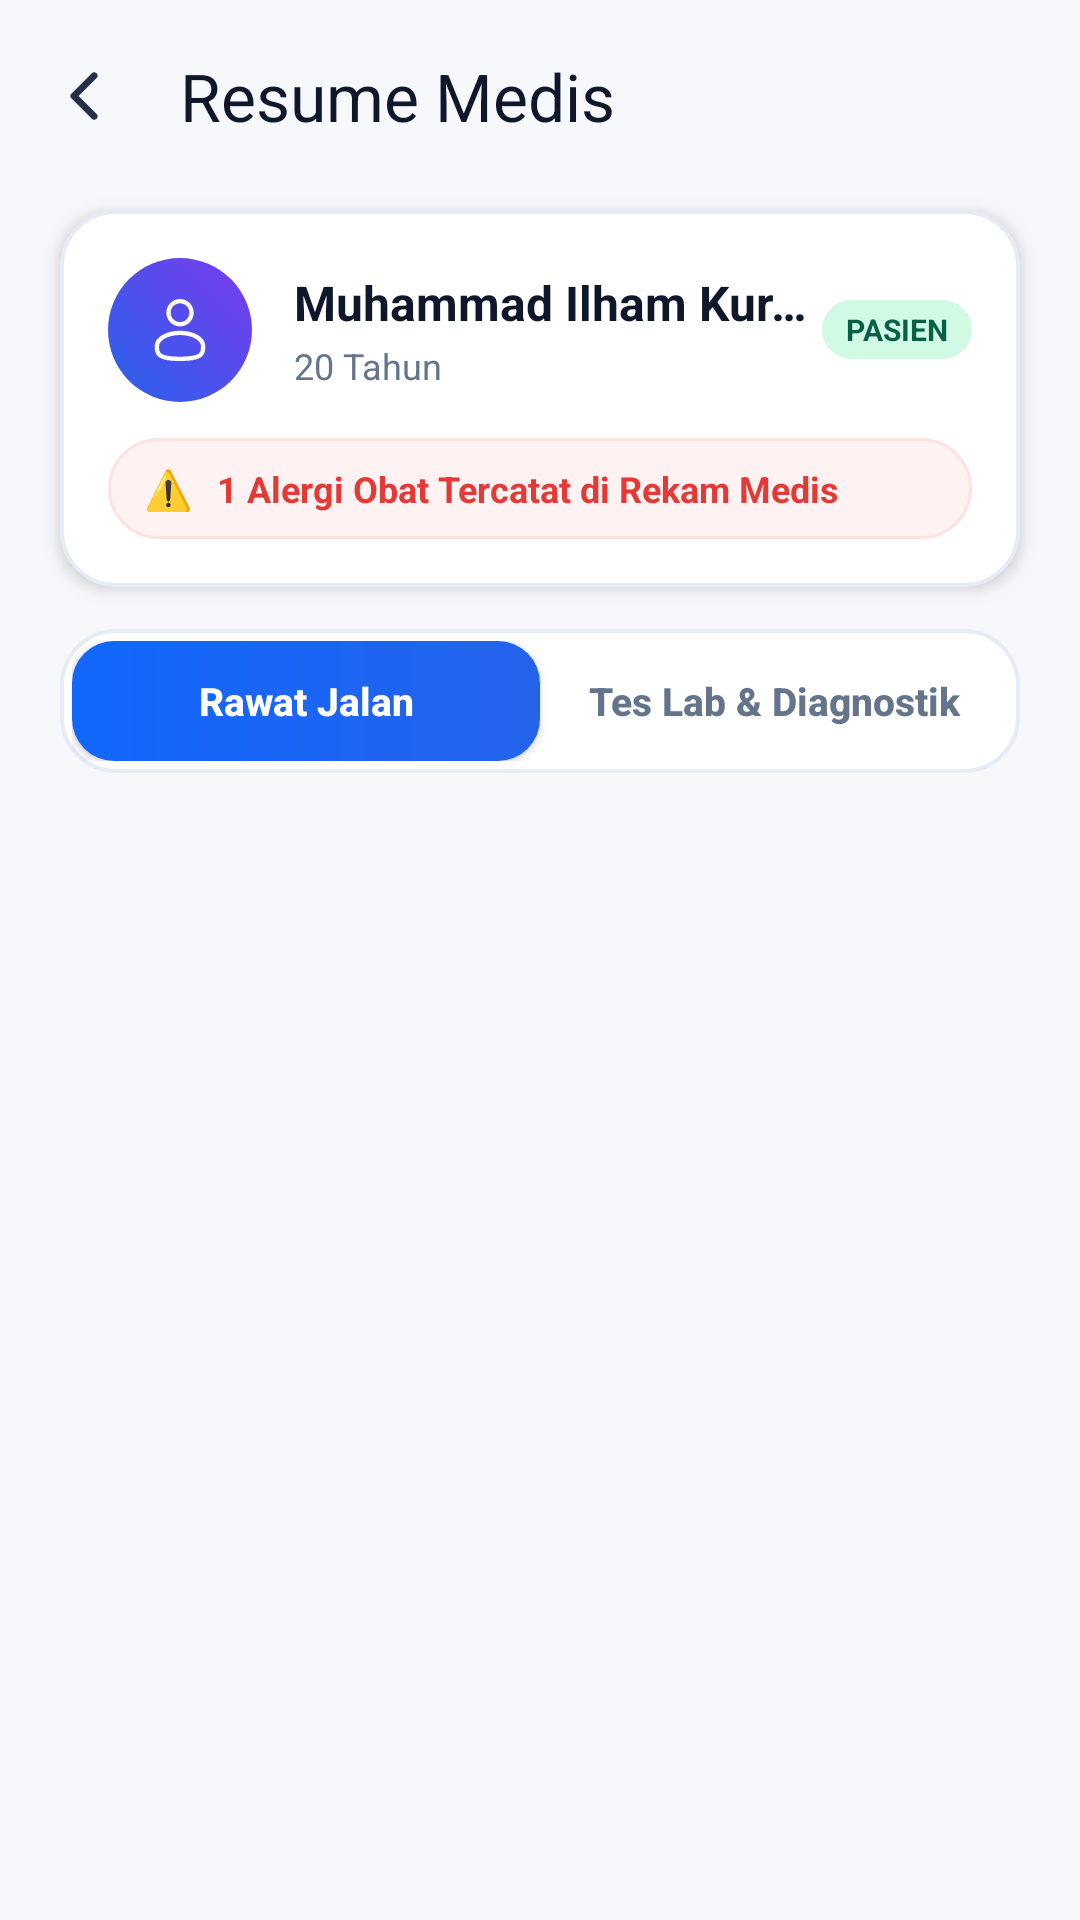

Icons on this 1080px x 1920px Android screen, each with the point to tap as (x=x, y=y):
user putih: (x=180, y=330)
